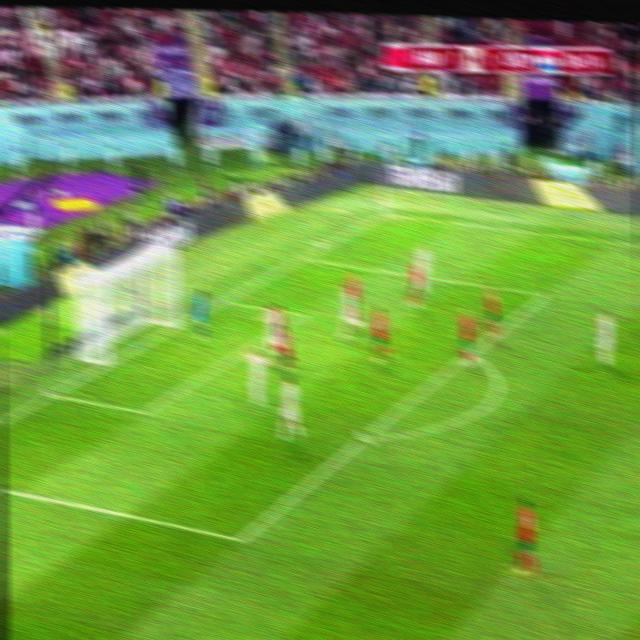bigarea_bottom_inner: (232, 529, 248, 551)
bigarea_top_inner: (536, 285, 551, 304)
bigarea_top_outter: (296, 250, 310, 266)
bottom_arc_area_intersection: (356, 428, 374, 445)
corner: (376, 210, 394, 218)
smallarea_bottom_inner: (136, 404, 154, 421)
smallarea_bottom_outter: (42, 384, 60, 404)
smallarea_top_inner: (294, 306, 308, 326)
smallarea_top_outter: (216, 293, 230, 308)
